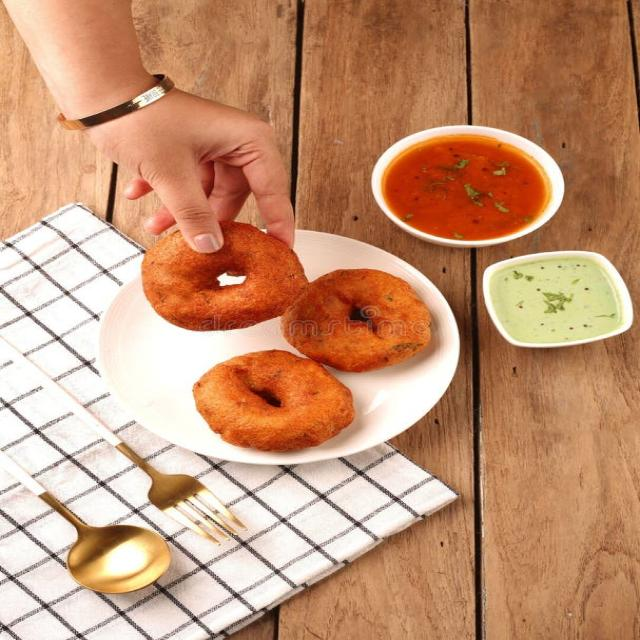MEDU VADA: (138, 217, 308, 327), (283, 256, 433, 373), (193, 348, 355, 456)
